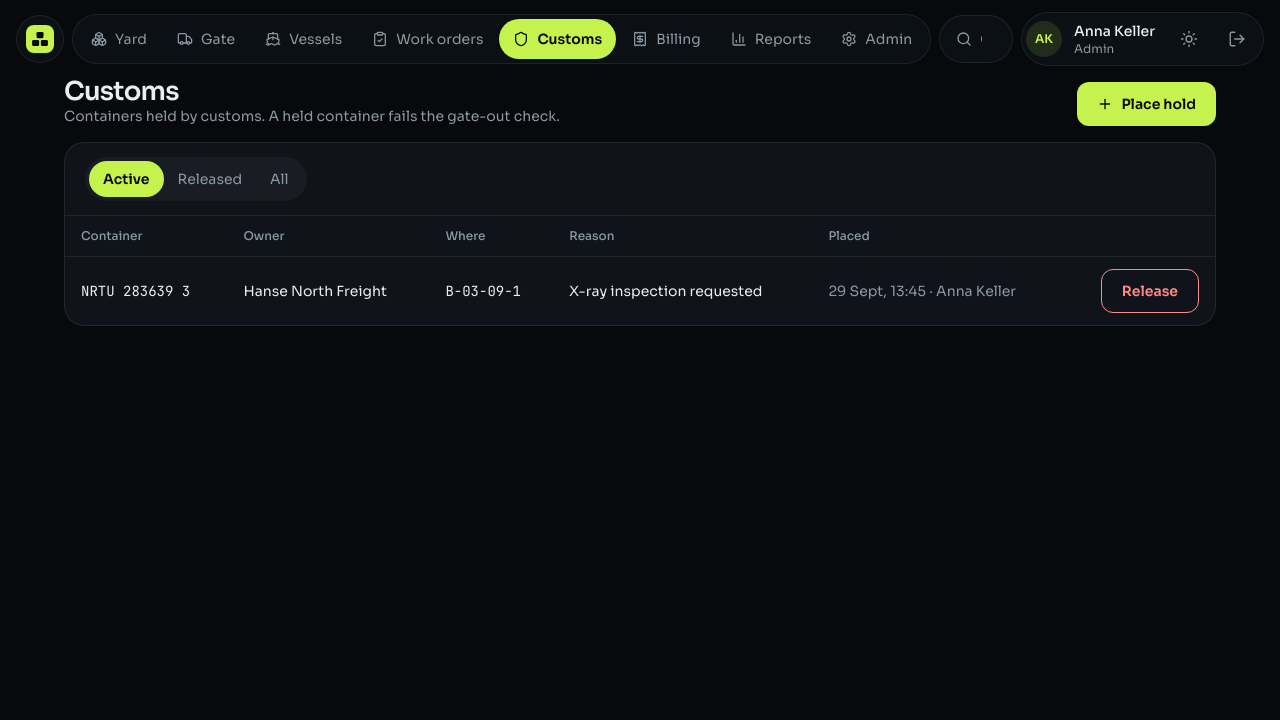
Test: customs › places a hold and shows field errors from the API
The image size is (1280, 720).
Expected: the text "NRTU 283639 3" is shown, x1=81 y1=282 x2=190 y2=300
Click the button "Place hold": (1147, 104) x1=1077 y1=82 x2=1216 y2=126
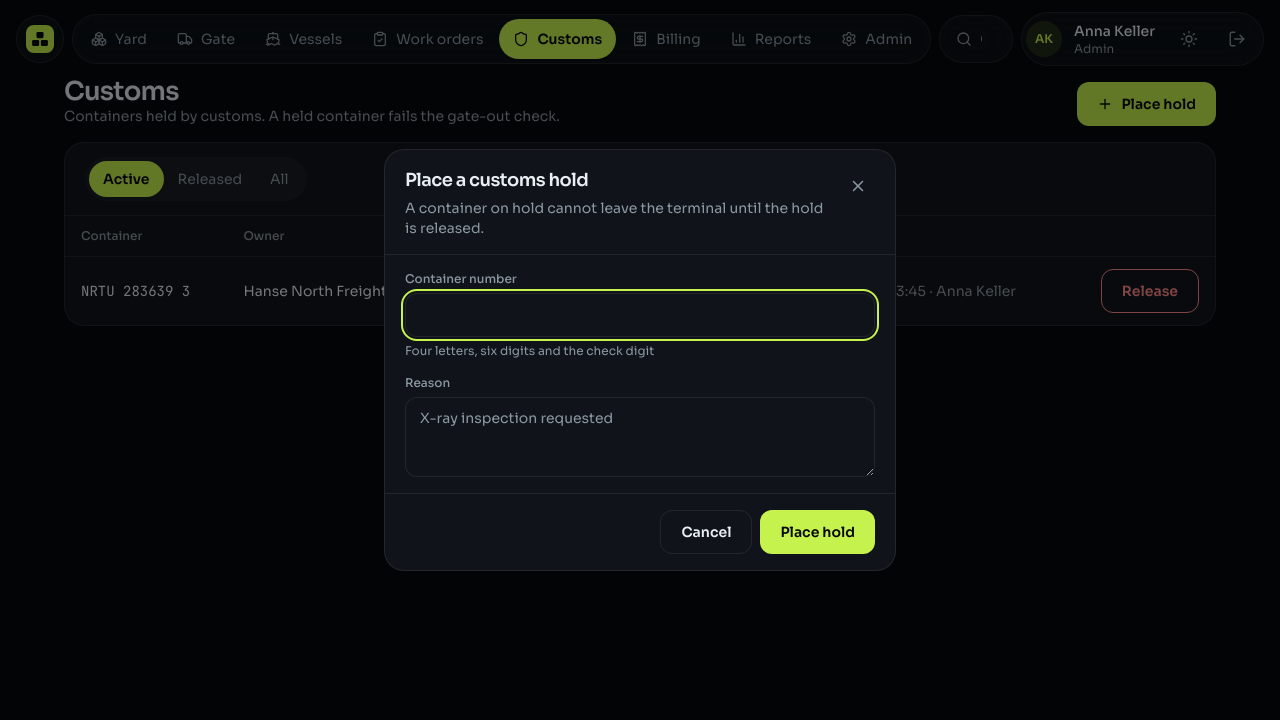
In the field labelled "Container number": (640, 315) x1=405 y1=293 x2=875 y2=337, type "NRTU2836393"
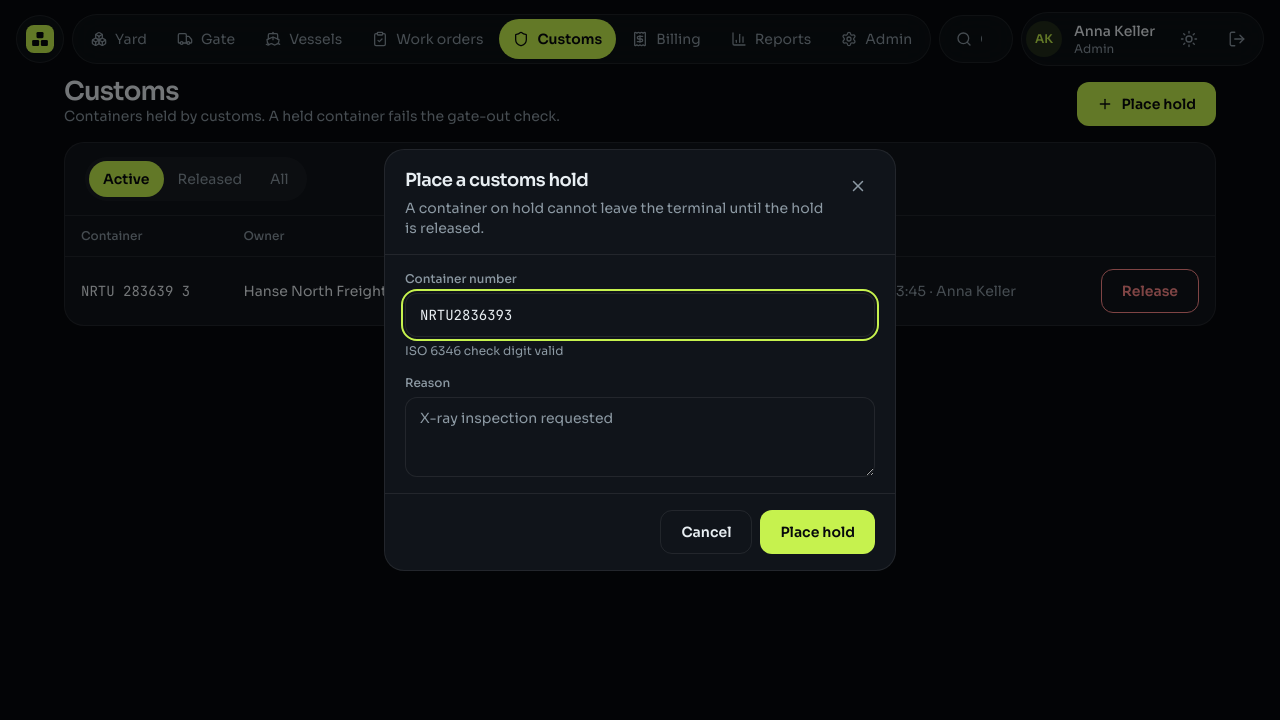
Click the button "Place hold": (818, 532) x1=760 y1=510 x2=875 y2=554
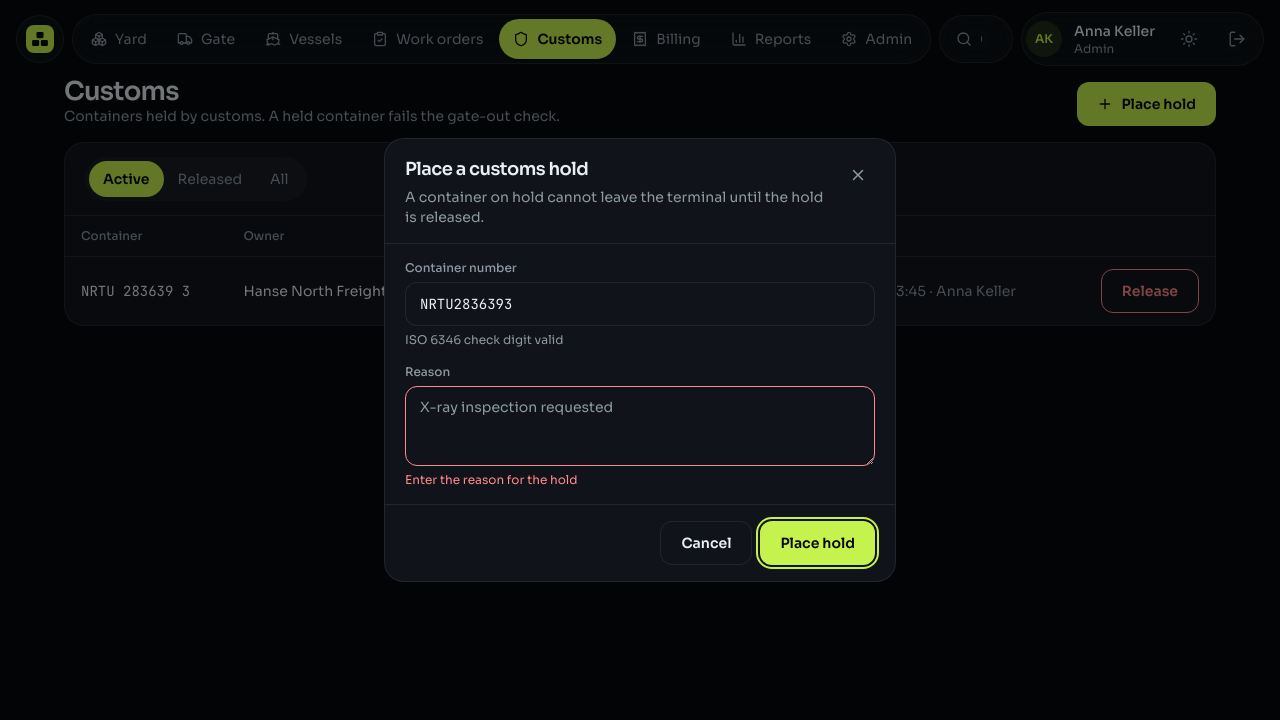
Expected: the text "Enter the reason for the hold" is shown, x1=405 y1=472 x2=578 y2=487
In the text box labelled "Reason": (640, 426) x1=405 y1=386 x2=875 y2=466, type "X-ray"
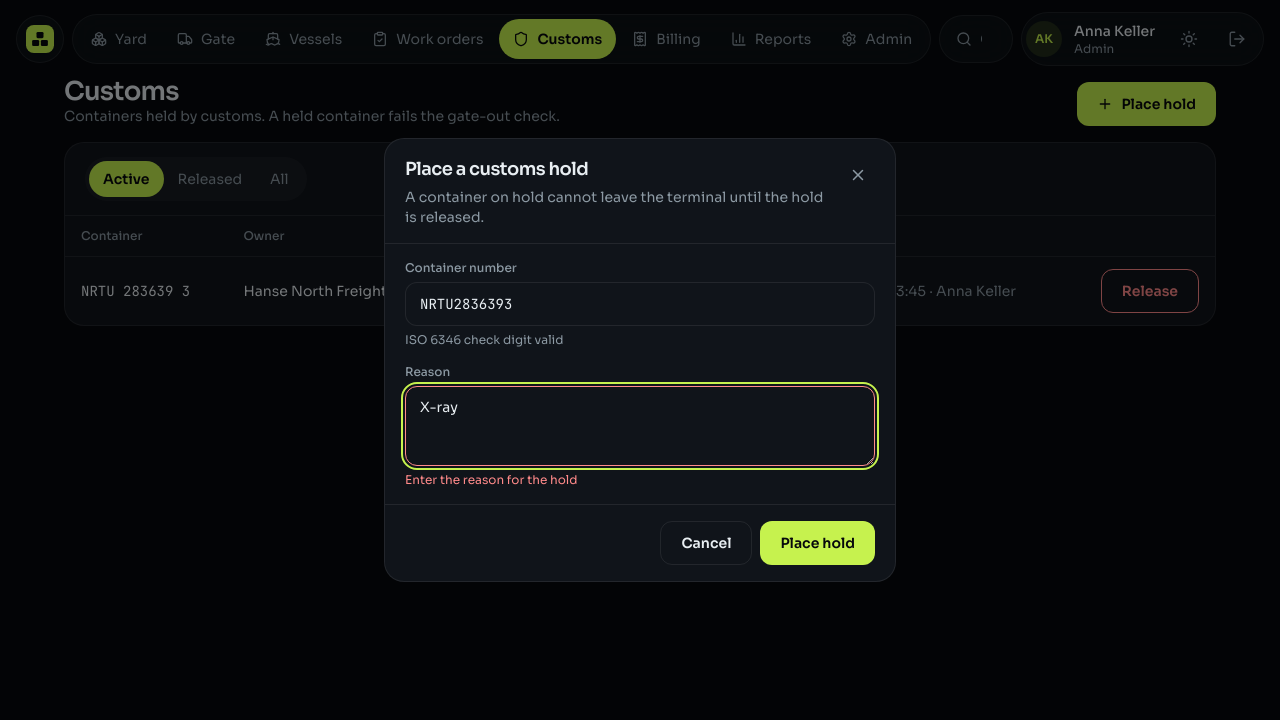
Click the button "Place hold": (818, 543) x1=760 y1=521 x2=875 y2=565
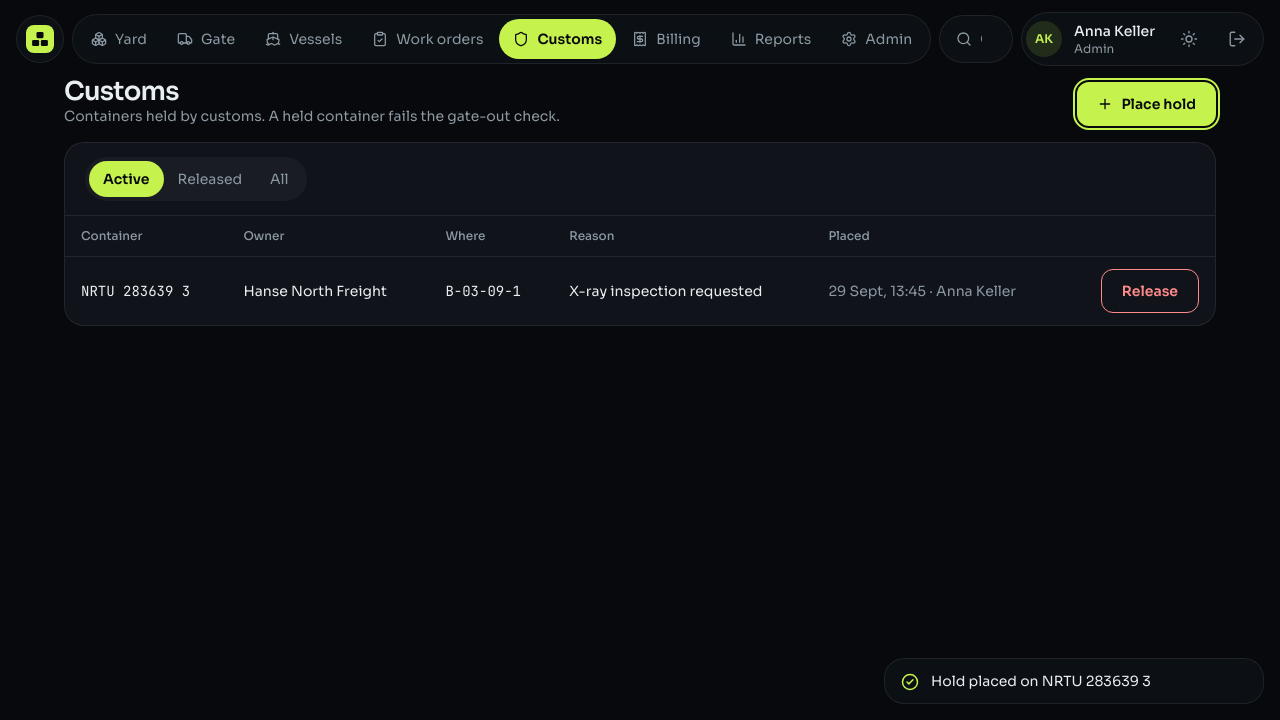
Expected: the dialog is gone
